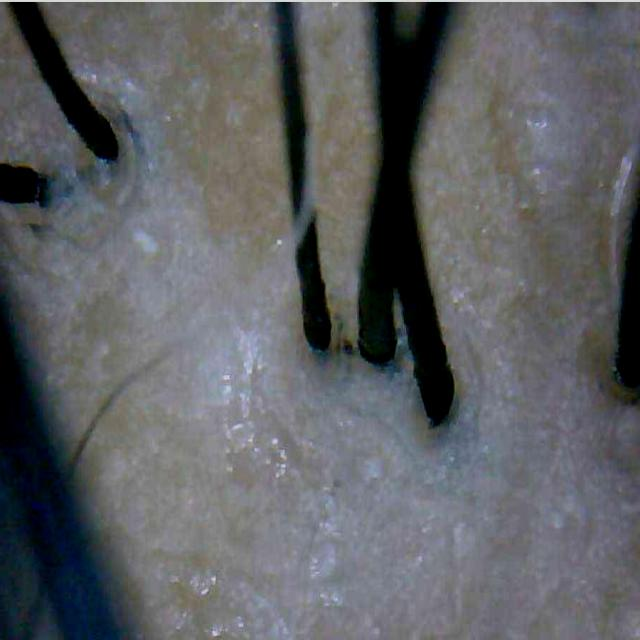o: (212, 338, 289, 494), (146, 561, 294, 640), (301, 482, 346, 609), (515, 102, 566, 202)
